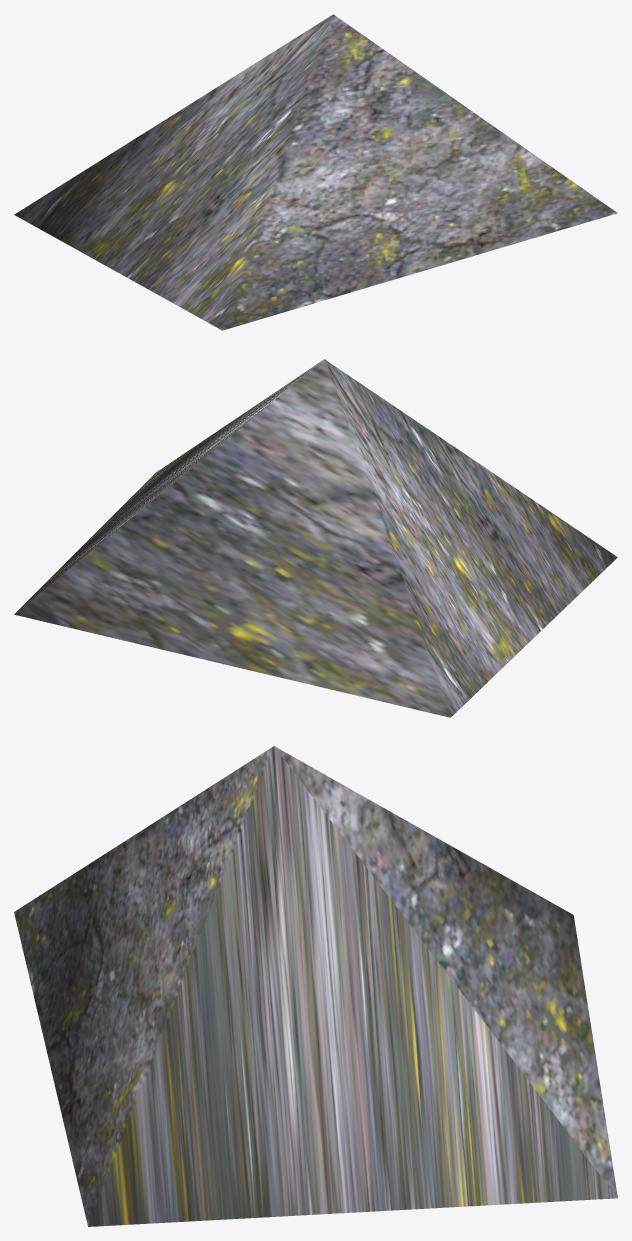
File: rock_weatheredmossy_medium_a3_l3.fbx
3 renders of one model, top to bottom at view 1: azimuth 30°, elevation 25°; view 2: azimuth 150°, elevation 25°; view 3: azimuth 270°, elevation 25°, orthographic. The views are drawn at different scales.
Parts seen in each view (by area): view 1: mesh_node; view 2: mesh_node; view 3: mesh_node.
Part boxes in pixels (x1=…): mesh_node: x1=14, y1=14, x2=617, y2=330; mesh_node: x1=14, y1=359, x2=617, y2=717; mesh_node: x1=14, y1=746, x2=617, y2=1226.
Size of the model in its own units: 0.4371 by 0.2063 by 0.3401.
Materials: 1 (1 with a texture image).
